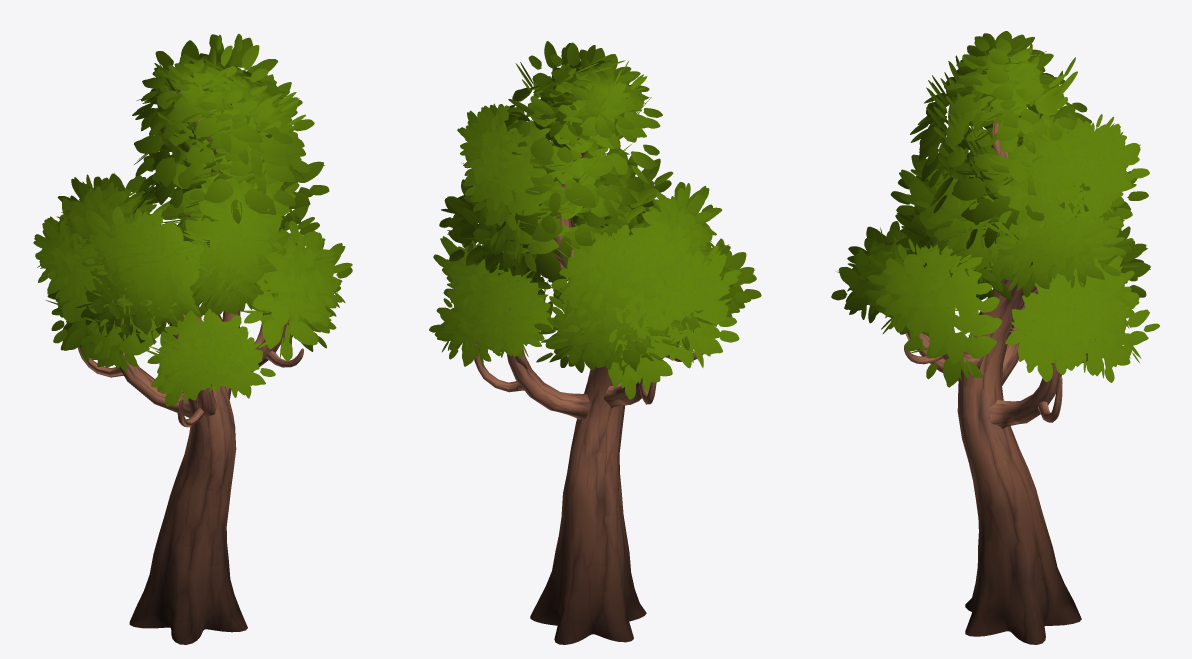
File: CommonTree_2.glb
3 views of the same model, side by side, from view 1: azimuth 30°, elevation 25°; view 2: azimuth 150°, elevation 25°; view 3: azimuth 270°, elevation 25° (orthographic). The views are drawn at different scales.
Parts seen in each view (by area): view 1: CommonTree_2; view 2: CommonTree_2; view 3: CommonTree_2.
Boxes of the visible parts, x1,y1,x2,y2 form: CommonTree_2: [33, 34, 352, 644]; CommonTree_2: [429, 41, 761, 644]; CommonTree_2: [831, 31, 1159, 644].
Size of the model in its own units: 4.46 by 7.64 by 4.28.
Materials: 2 (2 with a texture image).
